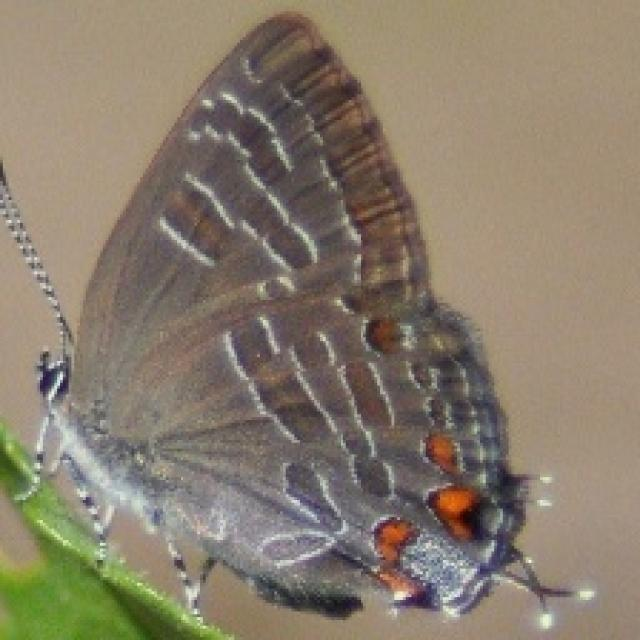butterfly: (0, 8, 580, 626)
